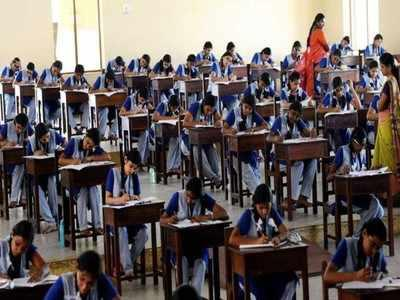invigilator: (369, 53, 400, 173), (306, 4, 332, 80)
student: (315, 214, 398, 295), (157, 178, 228, 262), (234, 182, 301, 262), (96, 147, 161, 222), (58, 120, 116, 183), (182, 86, 228, 148), (336, 126, 385, 184), (225, 95, 268, 144), (275, 97, 310, 155)
